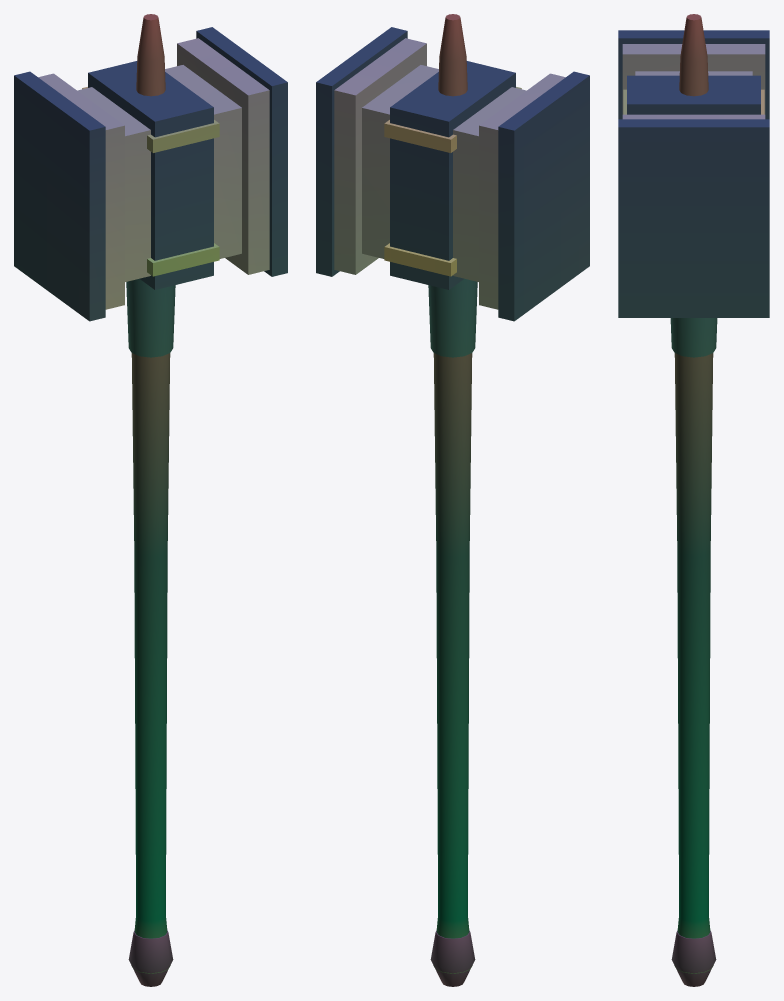
File: maul_sexton.glb
3 views of the same model, side by side, from view 1: azimuth 30°, elevation 25°; view 2: azimuth 150°, elevation 25°; view 3: azimuth 270°, elevation 25° (orthographic).
Visible parts, largest first — view 1: bands, head, haft, ferrule, studs, pommel; view 2: bands, head, haft, ferrule, studs, pommel; view 3: bands, haft, head, pommel, ferrule.
Part boxes in pixels (x1=…): bands: x1=14, y1=27, x2=287, y2=321; head: x1=38, y1=38, x2=269, y2=309; haft: x1=131, y1=14, x2=170, y2=973; ferrule: x1=126, y1=278, x2=175, y2=357; studs: x1=82, y1=87, x2=219, y2=276; pommel: x1=128, y1=930, x2=173, y2=986; bands: x1=316, y1=27, x2=589, y2=321; head: x1=334, y1=38, x2=565, y2=309; haft: x1=433, y1=14, x2=472, y2=973; ferrule: x1=428, y1=278, x2=477, y2=357; studs: x1=384, y1=87, x2=521, y2=276; pommel: x1=430, y1=930, x2=475, y2=986; bands: x1=618, y1=30, x2=769, y2=317; haft: x1=674, y1=14, x2=713, y2=973; head: x1=622, y1=44, x2=765, y2=119; pommel: x1=671, y1=930, x2=716, y2=986; ferrule: x1=670, y1=318, x2=717, y2=357.
Size of the model in its own units: 0.37 by 1.72 by 0.244.
